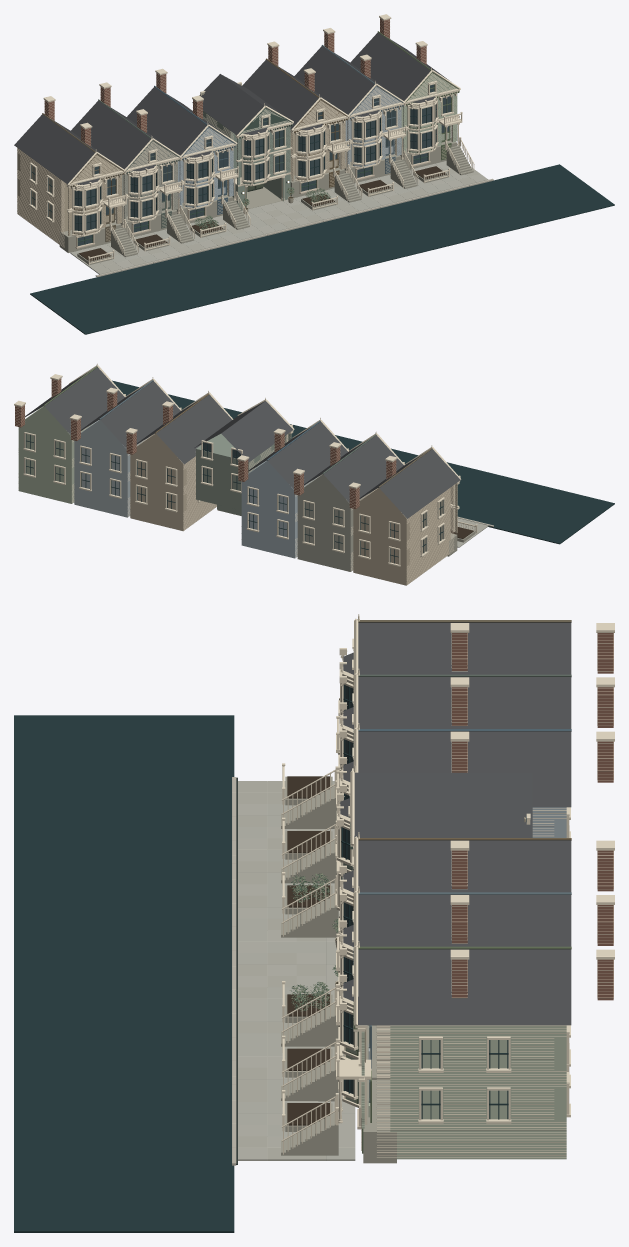
File: racer-garage.glb
The picture shows the model from 3 angles, top to bottom: view 1: azimuth 30°, elevation 25°; view 2: azimuth 150°, elevation 25°; view 3: azimuth 270°, elevation 25°; orthographic projection. The views are drawn at different scales.
Visible parts, largest first — view 1: Garage / Cerebral / deep window and roof shadow, Garage / Cerebral / ivory carved wood, Garage / Cerebral / charcoal asphalt shingles, Garage / Cerebral / worn front steps, Garage / Cerebral / blue gray reflected sash glazing, Garage / Cerebral / aged oyster wood, Garage / neighbor 732 / 732 weatherboard, Garage / paving / garage limestone 1, Garage / paving / garage limestone 2, Garage / paving / garage limestone 0, Garage / Victorian / garage eucalyptus weatherboard, Garage / Cerebral / weathered chimney brick (+14 smaller); view 2: Garage / Cerebral / charcoal asphalt shingles, Garage / Cerebral / deep window and roof shadow, Garage / neighbor 732 / 732 weatherboard, Garage / Cerebral / ivory carved wood, Garage / neighbor 740 / 740 weatherboard, Garage / Cerebral / aged oyster wood, Garage / neighbor 736 / 736 weatherboard, Garage / neighbor 734 / 734 weatherboard, Garage / neighbor 742 / 742 weatherboard, Garage / neighbor 744 / 744 weatherboard, Garage / Victorian / garage eucalyptus weatherboard, Garage / Cerebral / weathered chimney brick; view 3: Garage / Cerebral / deep window and roof shadow, Garage / Cerebral / charcoal asphalt shingles, Garage / neighbor 744 / 744 weatherboard, Garage / Cerebral / ivory carved wood, Garage / Cerebral / aged oyster wood, Garage / Cerebral / worn front steps, Garage / paving / garage limestone 1, Garage / paving / garage limestone 0, Garage / Cerebral / weathered chimney brick, Garage / paving / garage limestone 2, Garage / Cerebral / planter soil, Garage / paving / sidewalk sandstone (+3 smaller).
Part boxes in pixels (x1,y1,x2,y2): Garage / Cerebral / deep window and roof shadow: (30, 104, 614, 334); Garage / Cerebral / ivory carved wood: (29, 14, 474, 264); Garage / Cerebral / charcoal asphalt shingles: (14, 32, 449, 184); Garage / Cerebral / worn front steps: (59, 138, 473, 264); Garage / Cerebral / blue gray reflected sash glazing: (75, 84, 450, 245); Garage / Cerebral / aged oyster wood: (17, 18, 451, 248); Garage / neighbor 732 / 732 weatherboard: (17, 148, 121, 244); Garage / paving / garage limestone 1: (77, 161, 488, 268); Garage / paving / garage limestone 2: (70, 174, 456, 262); Garage / paving / garage limestone 0: (85, 167, 480, 274); Garage / Victorian / garage eucalyptus weatherboard: (203, 108, 290, 210); Garage / Cerebral / weathered chimney brick: (44, 18, 426, 146); Garage / Cerebral / charcoal asphalt shingles: (25, 367, 460, 518); Garage / Cerebral / deep window and roof shadow: (25, 380, 614, 563); Garage / neighbor 732 / 732 weatherboard: (353, 484, 457, 585); Garage / Cerebral / ivory carved wood: (14, 363, 477, 566); Garage / neighbor 740 / 740 weatherboard: (130, 433, 216, 531); Garage / Cerebral / aged oyster wood: (15, 379, 453, 584); Garage / neighbor 736 / 736 weatherboard: (241, 460, 317, 558); Garage / neighbor 734 / 734 weatherboard: (297, 474, 372, 571); Garage / neighbor 742 / 742 weatherboard: (74, 420, 148, 517); Garage / neighbor 744 / 744 weatherboard: (18, 406, 93, 503); Garage / Victorian / garage eucalyptus weatherboard: (196, 433, 291, 515); Garage / Cerebral / weathered chimney brick: (15, 378, 396, 508); Garage / Cerebral / deep window and roof shadow: (14, 685, 508, 1232); Garage / Cerebral / charcoal asphalt shingles: (340, 622, 571, 1025); Garage / neighbor 744 / 744 weatherboard: (346, 1000, 566, 1159); Garage / Cerebral / ivory carved wood: (281, 614, 614, 1154); Garage / Cerebral / aged oyster wood: (357, 633, 613, 1157); Garage / Cerebral / worn front steps: (281, 776, 396, 1163); Garage / paving / garage limestone 1: (238, 804, 355, 1160); Garage / paving / garage limestone 0: (238, 781, 334, 1160); Garage / Cerebral / weathered chimney brick: (452, 633, 613, 1000); Garage / paving / garage limestone 2: (238, 781, 355, 1160); Garage / Cerebral / planter soil: (287, 776, 329, 1125); Garage / paving / sidewalk sandstone: (232, 777, 236, 1165).
Size of the model in its own units: 72 by 13.61 by 35.45.
